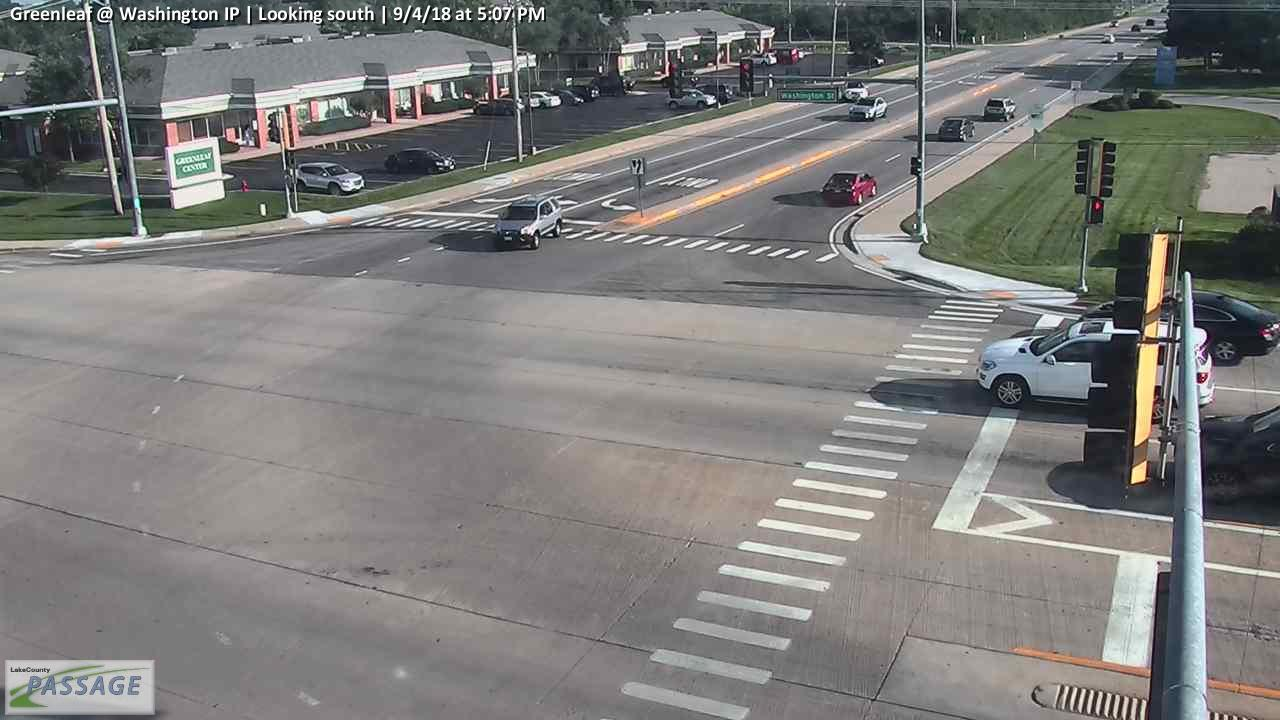SUV: (976, 319, 1215, 408), (494, 195, 563, 248), (293, 161, 365, 195), (664, 88, 716, 108), (985, 97, 1017, 120)
Sedan: (1082, 289, 1280, 366), (384, 147, 457, 174), (820, 171, 877, 205), (848, 95, 888, 121), (473, 95, 523, 114), (938, 116, 976, 140), (523, 89, 561, 107), (748, 51, 778, 66)
